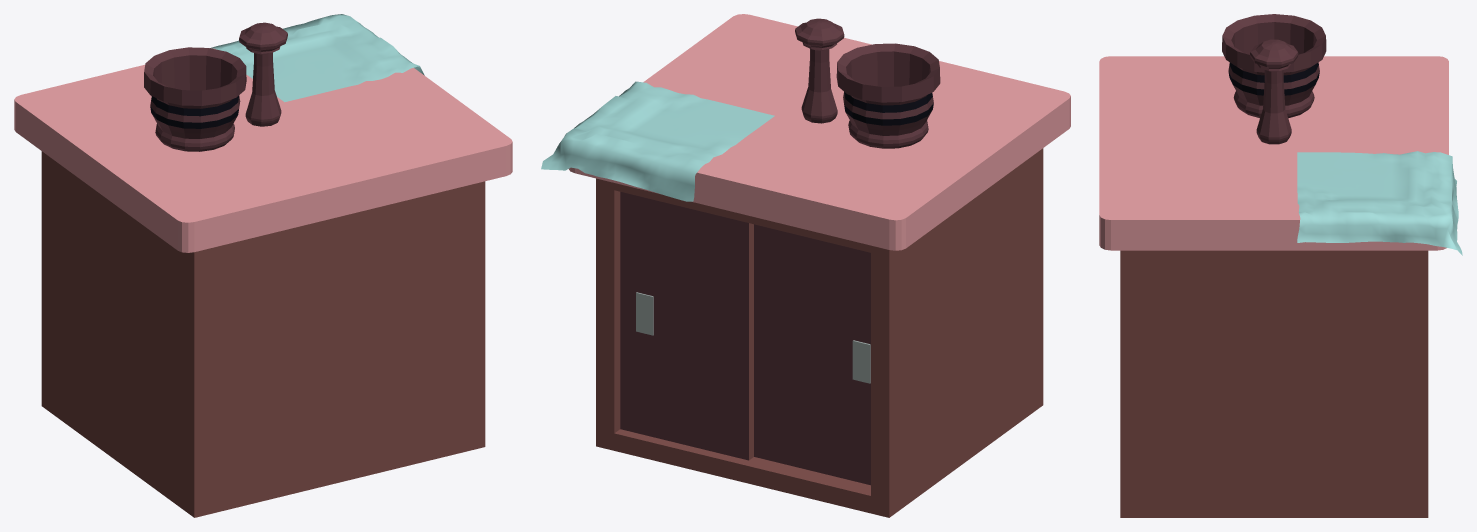
Rendered from BancadaAmassar 1.fbx.
The picture shows the model from 3 angles, left to right: view 1: azimuth 30°, elevation 25°; view 2: azimuth 150°, elevation 25°; view 3: azimuth 270°, elevation 25°; orthographic projection.
Parts seen in each view (by area): view 1: Cube.024, Circle.006, Circle.007; view 2: Cube.024, Circle.006, Circle.007; view 3: Cube.024, Circle.006, Circle.007.
Part boxes in pixels (box(x1,y1,x2,y2)): Cube.024: box(14, 14, 512, 517); Circle.006: box(144, 47, 246, 151); Circle.007: box(239, 22, 287, 126); Cube.024: box(541, 14, 1070, 517); Circle.006: box(836, 43, 940, 148); Circle.007: box(795, 18, 844, 123); Cube.024: box(1099, 56, 1462, 517); Circle.006: box(1222, 14, 1326, 118); Circle.007: box(1250, 39, 1298, 144).
Bounding box in the file's own units: 128 × 140 × 114.
